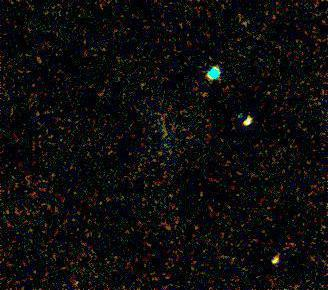star: (230, 6, 260, 36)
